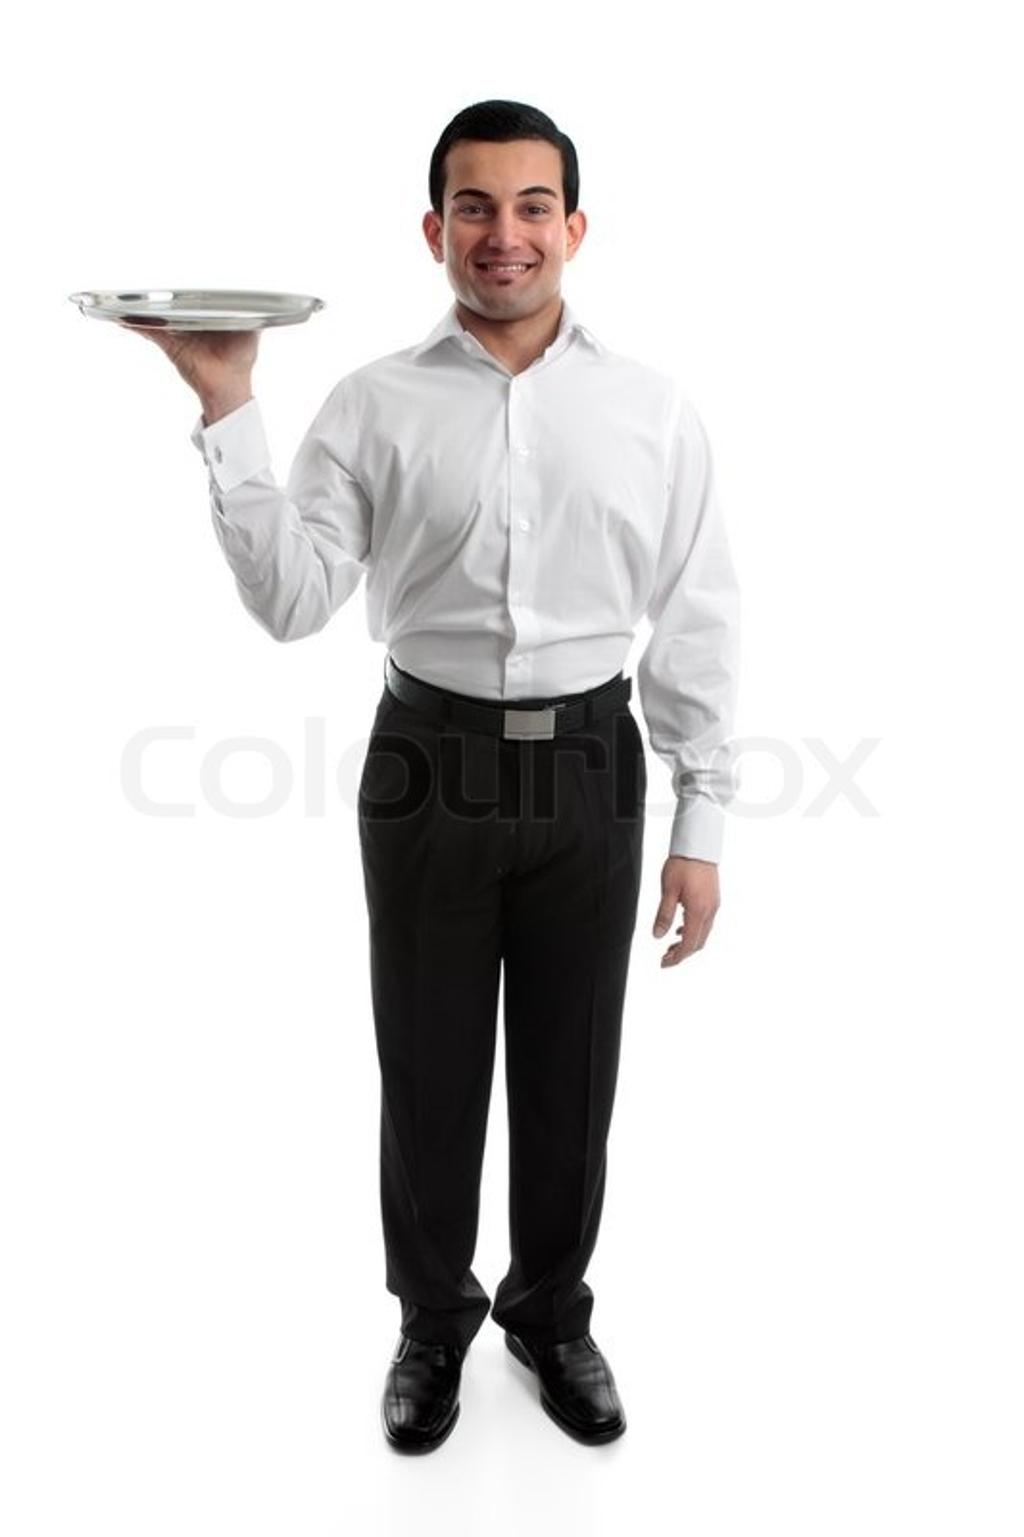face: (438, 135, 564, 315)
